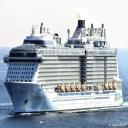cruises: (4, 19, 125, 118)
